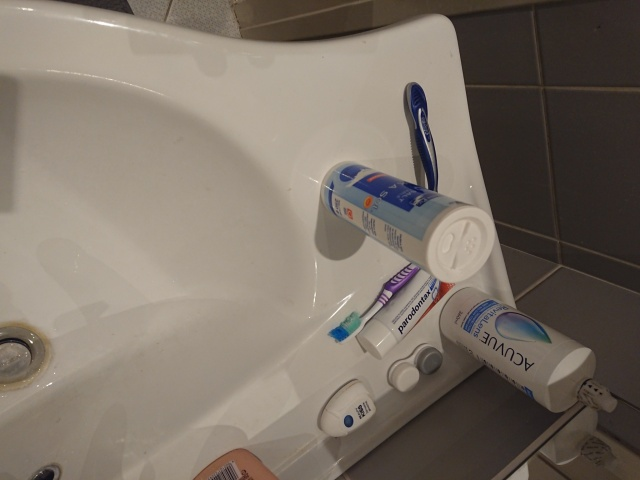Solana Pag Fine Sea Salt 250g: (318, 158, 497, 285)
